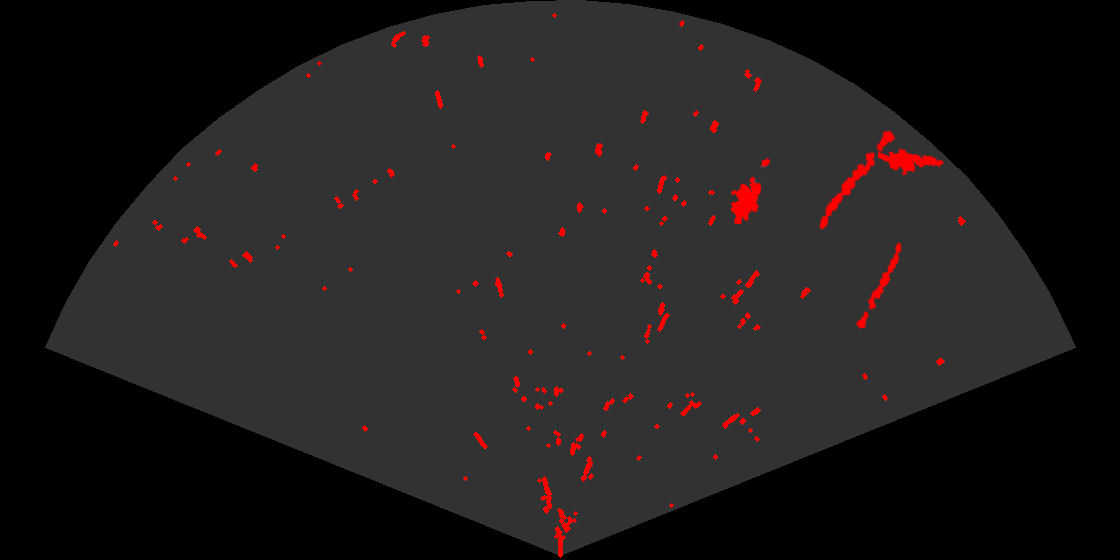chain: (818, 129, 897, 231), (854, 241, 903, 330)
frogman: (729, 156, 771, 224), (878, 147, 946, 177)
